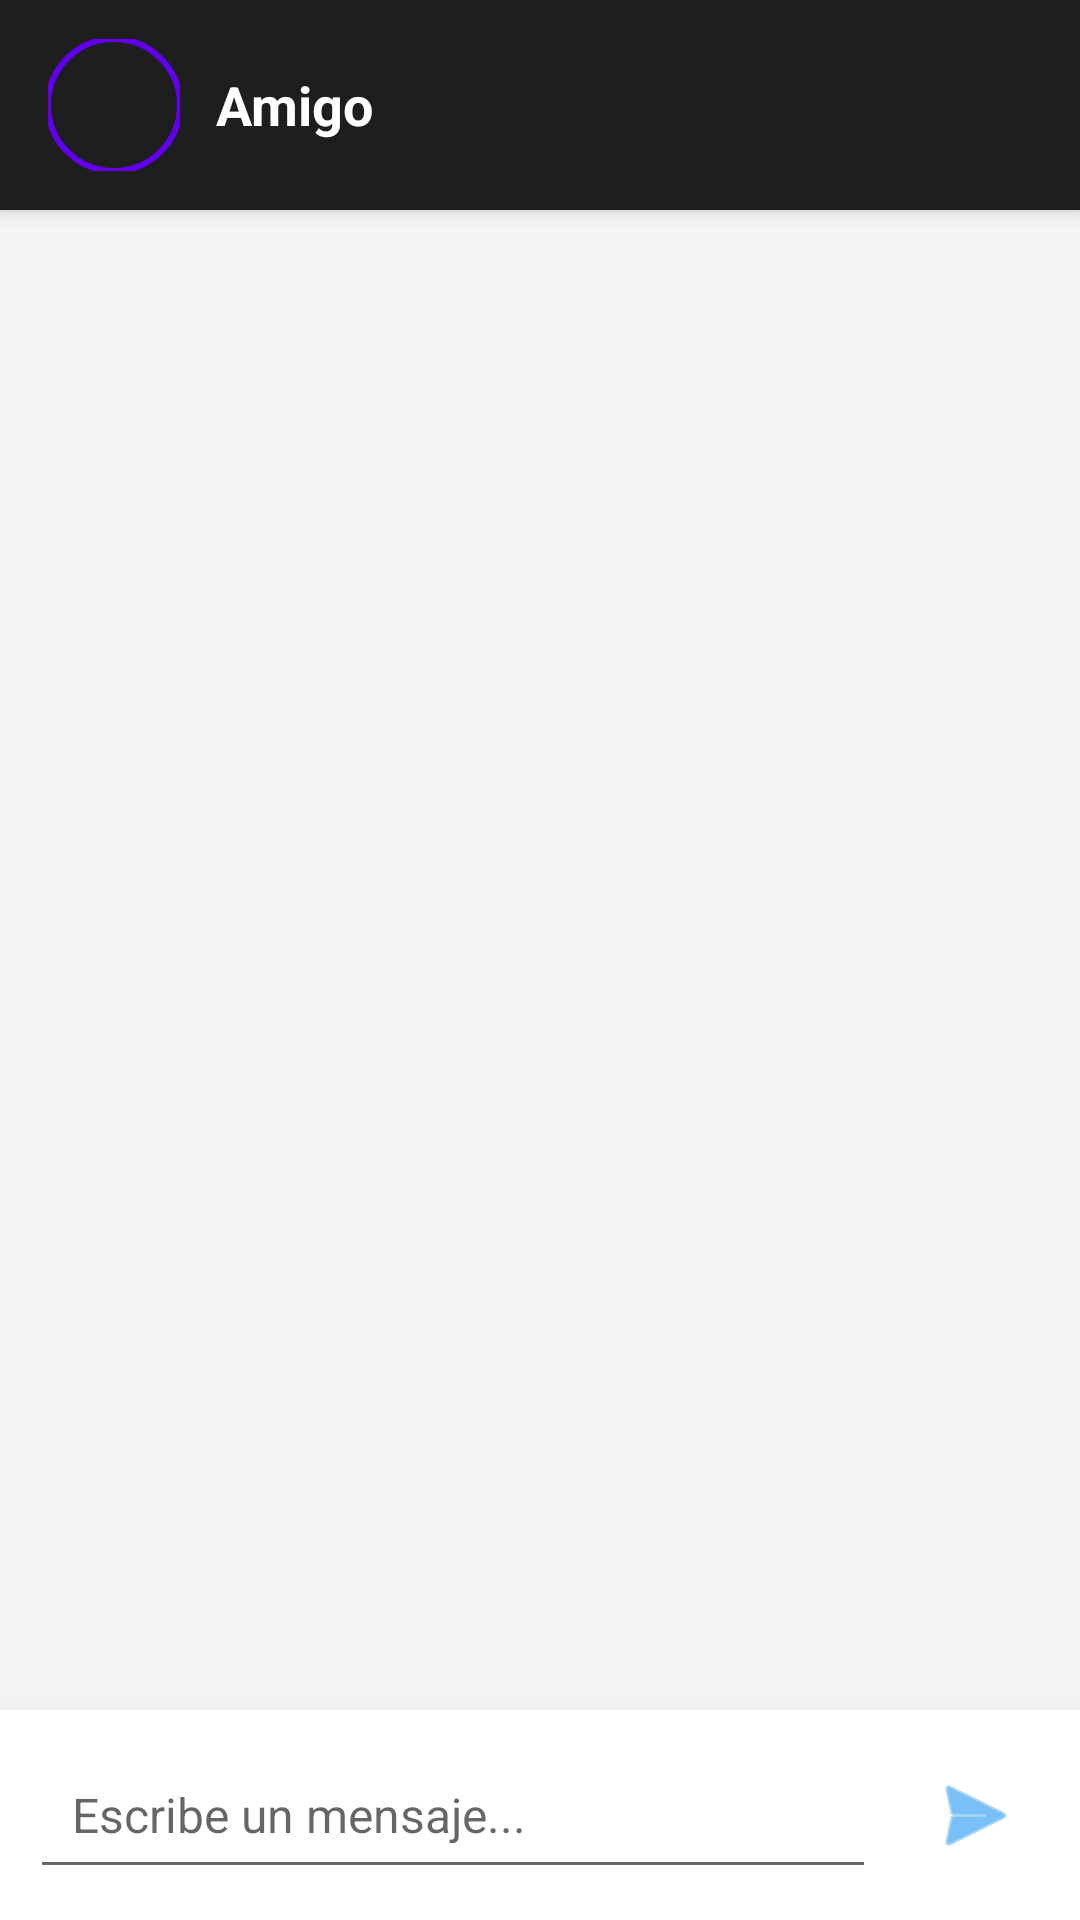

Icons on this 1080×1920 Android screen, each with the point to tap as (x,y):
Enviar: (976,1815)
